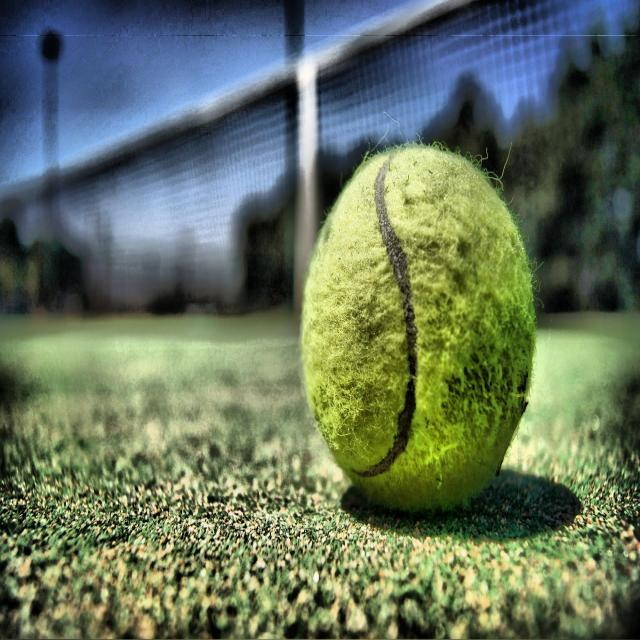tennis-ball: (295, 121, 541, 523)
